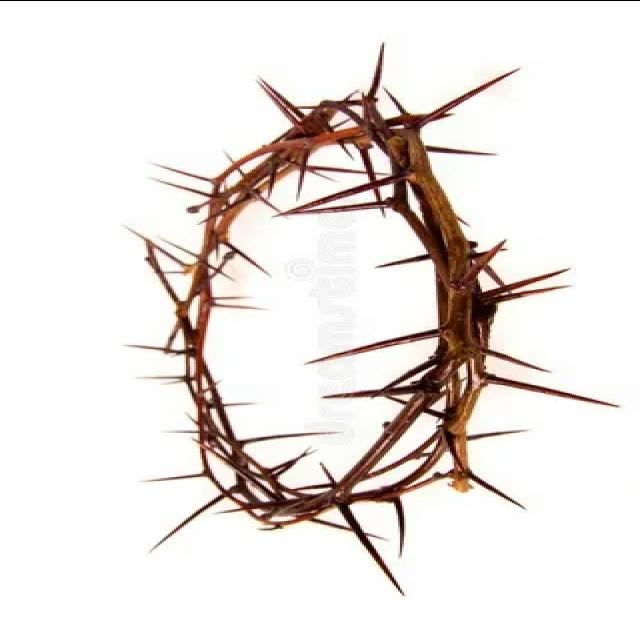crown: (152, 48, 522, 552)
